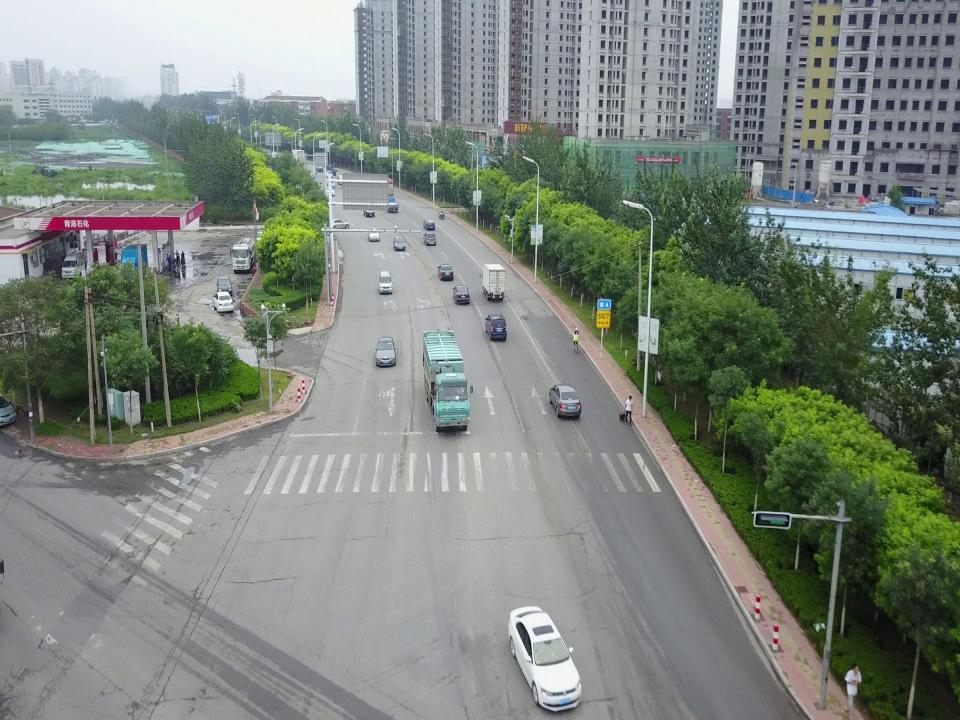bus: (376, 176, 394, 197)
car: (508, 604, 584, 714), (548, 384, 582, 418), (374, 336, 398, 368), (0, 391, 18, 429), (484, 313, 508, 341), (212, 291, 234, 314), (376, 269, 394, 296), (214, 276, 234, 298), (452, 283, 470, 306), (437, 264, 454, 282), (326, 218, 350, 230), (393, 235, 407, 251), (422, 231, 436, 246), (368, 226, 380, 241), (362, 204, 375, 217), (423, 218, 435, 231), (326, 179, 336, 189), (325, 187, 335, 196), (324, 170, 334, 178), (315, 165, 324, 173)
truck: (420, 329, 474, 434), (119, 243, 150, 287), (479, 262, 507, 302), (229, 235, 256, 274), (289, 149, 306, 166), (385, 196, 399, 213), (324, 165, 338, 176)
van: (61, 249, 87, 283)
